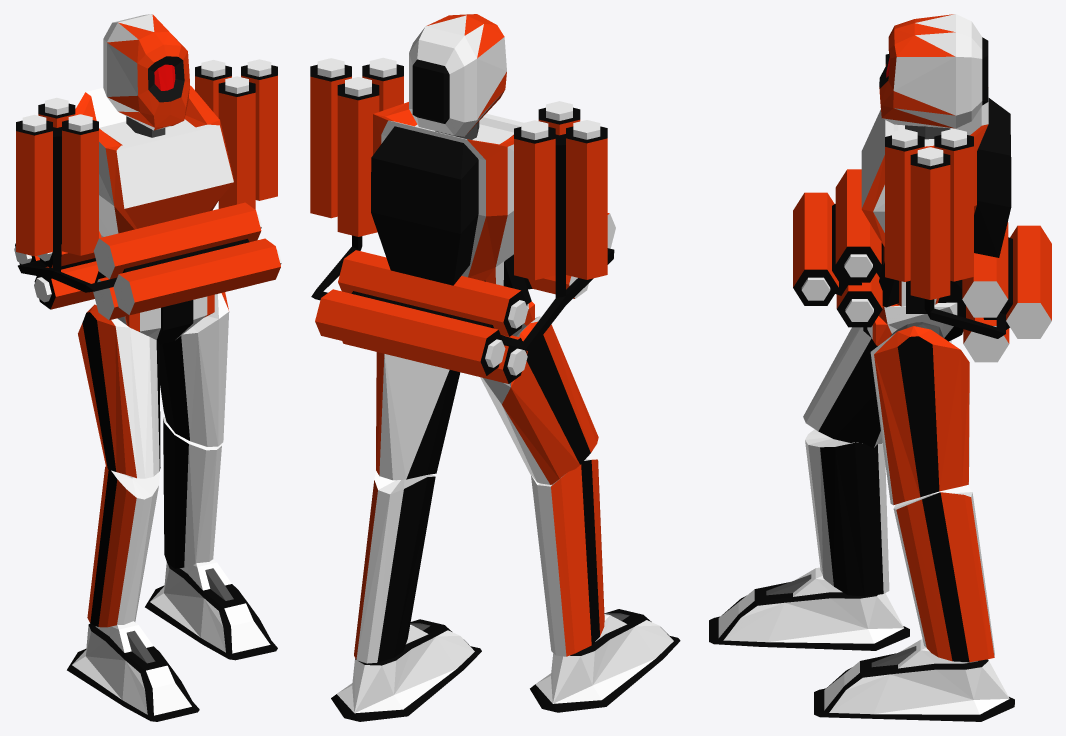
Rendered from robots_000004.obj.
The picture shows the model from 3 angles, left to right: view 1: azimuth 30°, elevation 25°; view 2: azimuth 150°, elevation 25°; view 3: azimuth 270°, elevation 25°; orthographic projection. The views are drawn at different scales.
Visible parts, largest first — view 1: Cylinder.004_Cylinder.006, Chest_plate_Cube.004, R_Thigh_Cube.005, Head_base.002_Cube.030, R_Shin_Cube.007, R_Thigh.002_Cube.027, R_Foot_Cube, R_Foot.002_Cube.035, R_Shin.002_Cube.029, Pelvis_Cube.006; view 2: Cylinder.004_Cylinder.006, Chest_plate_Cube.004, R_Shin_Cube.007, R_Shin.002_Cube.029, R_Thigh_Cube.005, Head_base.002_Cube.030, R_Thigh.002_Cube.027, R_Foot_Cube, R_Foot.002_Cube.035; view 3: Cylinder.004_Cylinder.006, R_Thigh.002_Cube.027, R_Shin.002_Cube.029, R_Shin_Cube.007, R_Foot.002_Cube.035, R_Foot_Cube, Head_base.002_Cube.030, Chest_plate_Cube.004, R_Thigh_Cube.005, Pelvis_Cube.006.
Boxes of the visible parts, x1=… form: Cylinder.004_Cylinder.006: x1=14, y1=59, x2=281, y2=320; Chest_plate_Cube.004: x1=75, y1=85, x2=233, y2=282; R_Thigh_Cube.005: x1=78, y1=304, x2=160, y2=478; Head_base.002_Cube.030: x1=103, y1=14, x2=189, y2=130; R_Shin_Cube.007: x1=87, y1=466, x2=159, y2=627; R_Thigh.002_Cube.027: x1=159, y1=292, x2=229, y2=446; R_Foot_Cube: x1=67, y1=621, x2=199, y2=721; R_Foot.002_Cube.035: x1=145, y1=559, x2=277, y2=660; R_Shin.002_Cube.029: x1=163, y1=417, x2=221, y2=568; Pelvis_Cube.006: x1=125, y1=294, x2=214, y2=344; Cylinder.004_Cylinder.006: x1=310, y1=57, x2=615, y2=383; Chest_plate_Cube.004: x1=371, y1=102, x2=532, y2=304; R_Shin_Cube.007: x1=531, y1=459, x2=604, y2=656; R_Shin.002_Cube.029: x1=354, y1=471, x2=435, y2=663; R_Thigh_Cube.005: x1=480, y1=316, x2=598, y2=484; Head_base.002_Cube.030: x1=409, y1=14, x2=506, y2=136; R_Thigh.002_Cube.027: x1=376, y1=352, x2=460, y2=480; R_Foot_Cube: x1=530, y1=609, x2=680, y2=712; R_Foot.002_Cube.035: x1=331, y1=619, x2=481, y2=721; Cylinder.004_Cylinder.006: x1=793, y1=54, x2=1051, y2=362; R_Thigh.002_Cube.027: x1=870, y1=326, x2=969, y2=505; R_Shin.002_Cube.029: x1=893, y1=485, x2=994, y2=662; R_Shin_Cube.007: x1=805, y1=429, x2=889, y2=596; R_Foot.002_Cube.035: x1=814, y1=639, x2=1014, y2=721; R_Foot_Cube: x1=709, y1=567, x2=909, y2=650; Head_base.002_Cube.030: x1=879, y1=14, x2=988, y2=128; Chest_plate_Cube.004: x1=861, y1=87, x2=1011, y2=313; R_Thigh_Cube.005: x1=803, y1=327, x2=951, y2=448; Pelvis_Cube.006: x1=863, y1=280, x2=965, y2=345.
Bounding box in the file's own units: 1.38 × 3.03 × 1.44.
